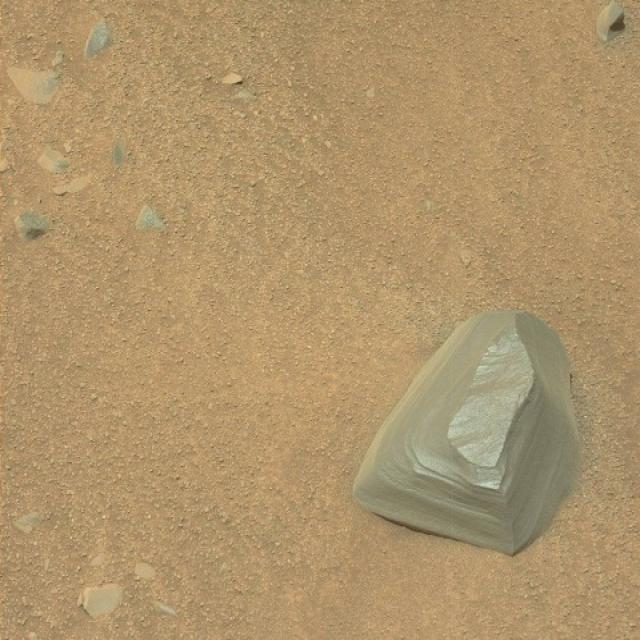mars-rocks: (354, 311, 581, 556)
